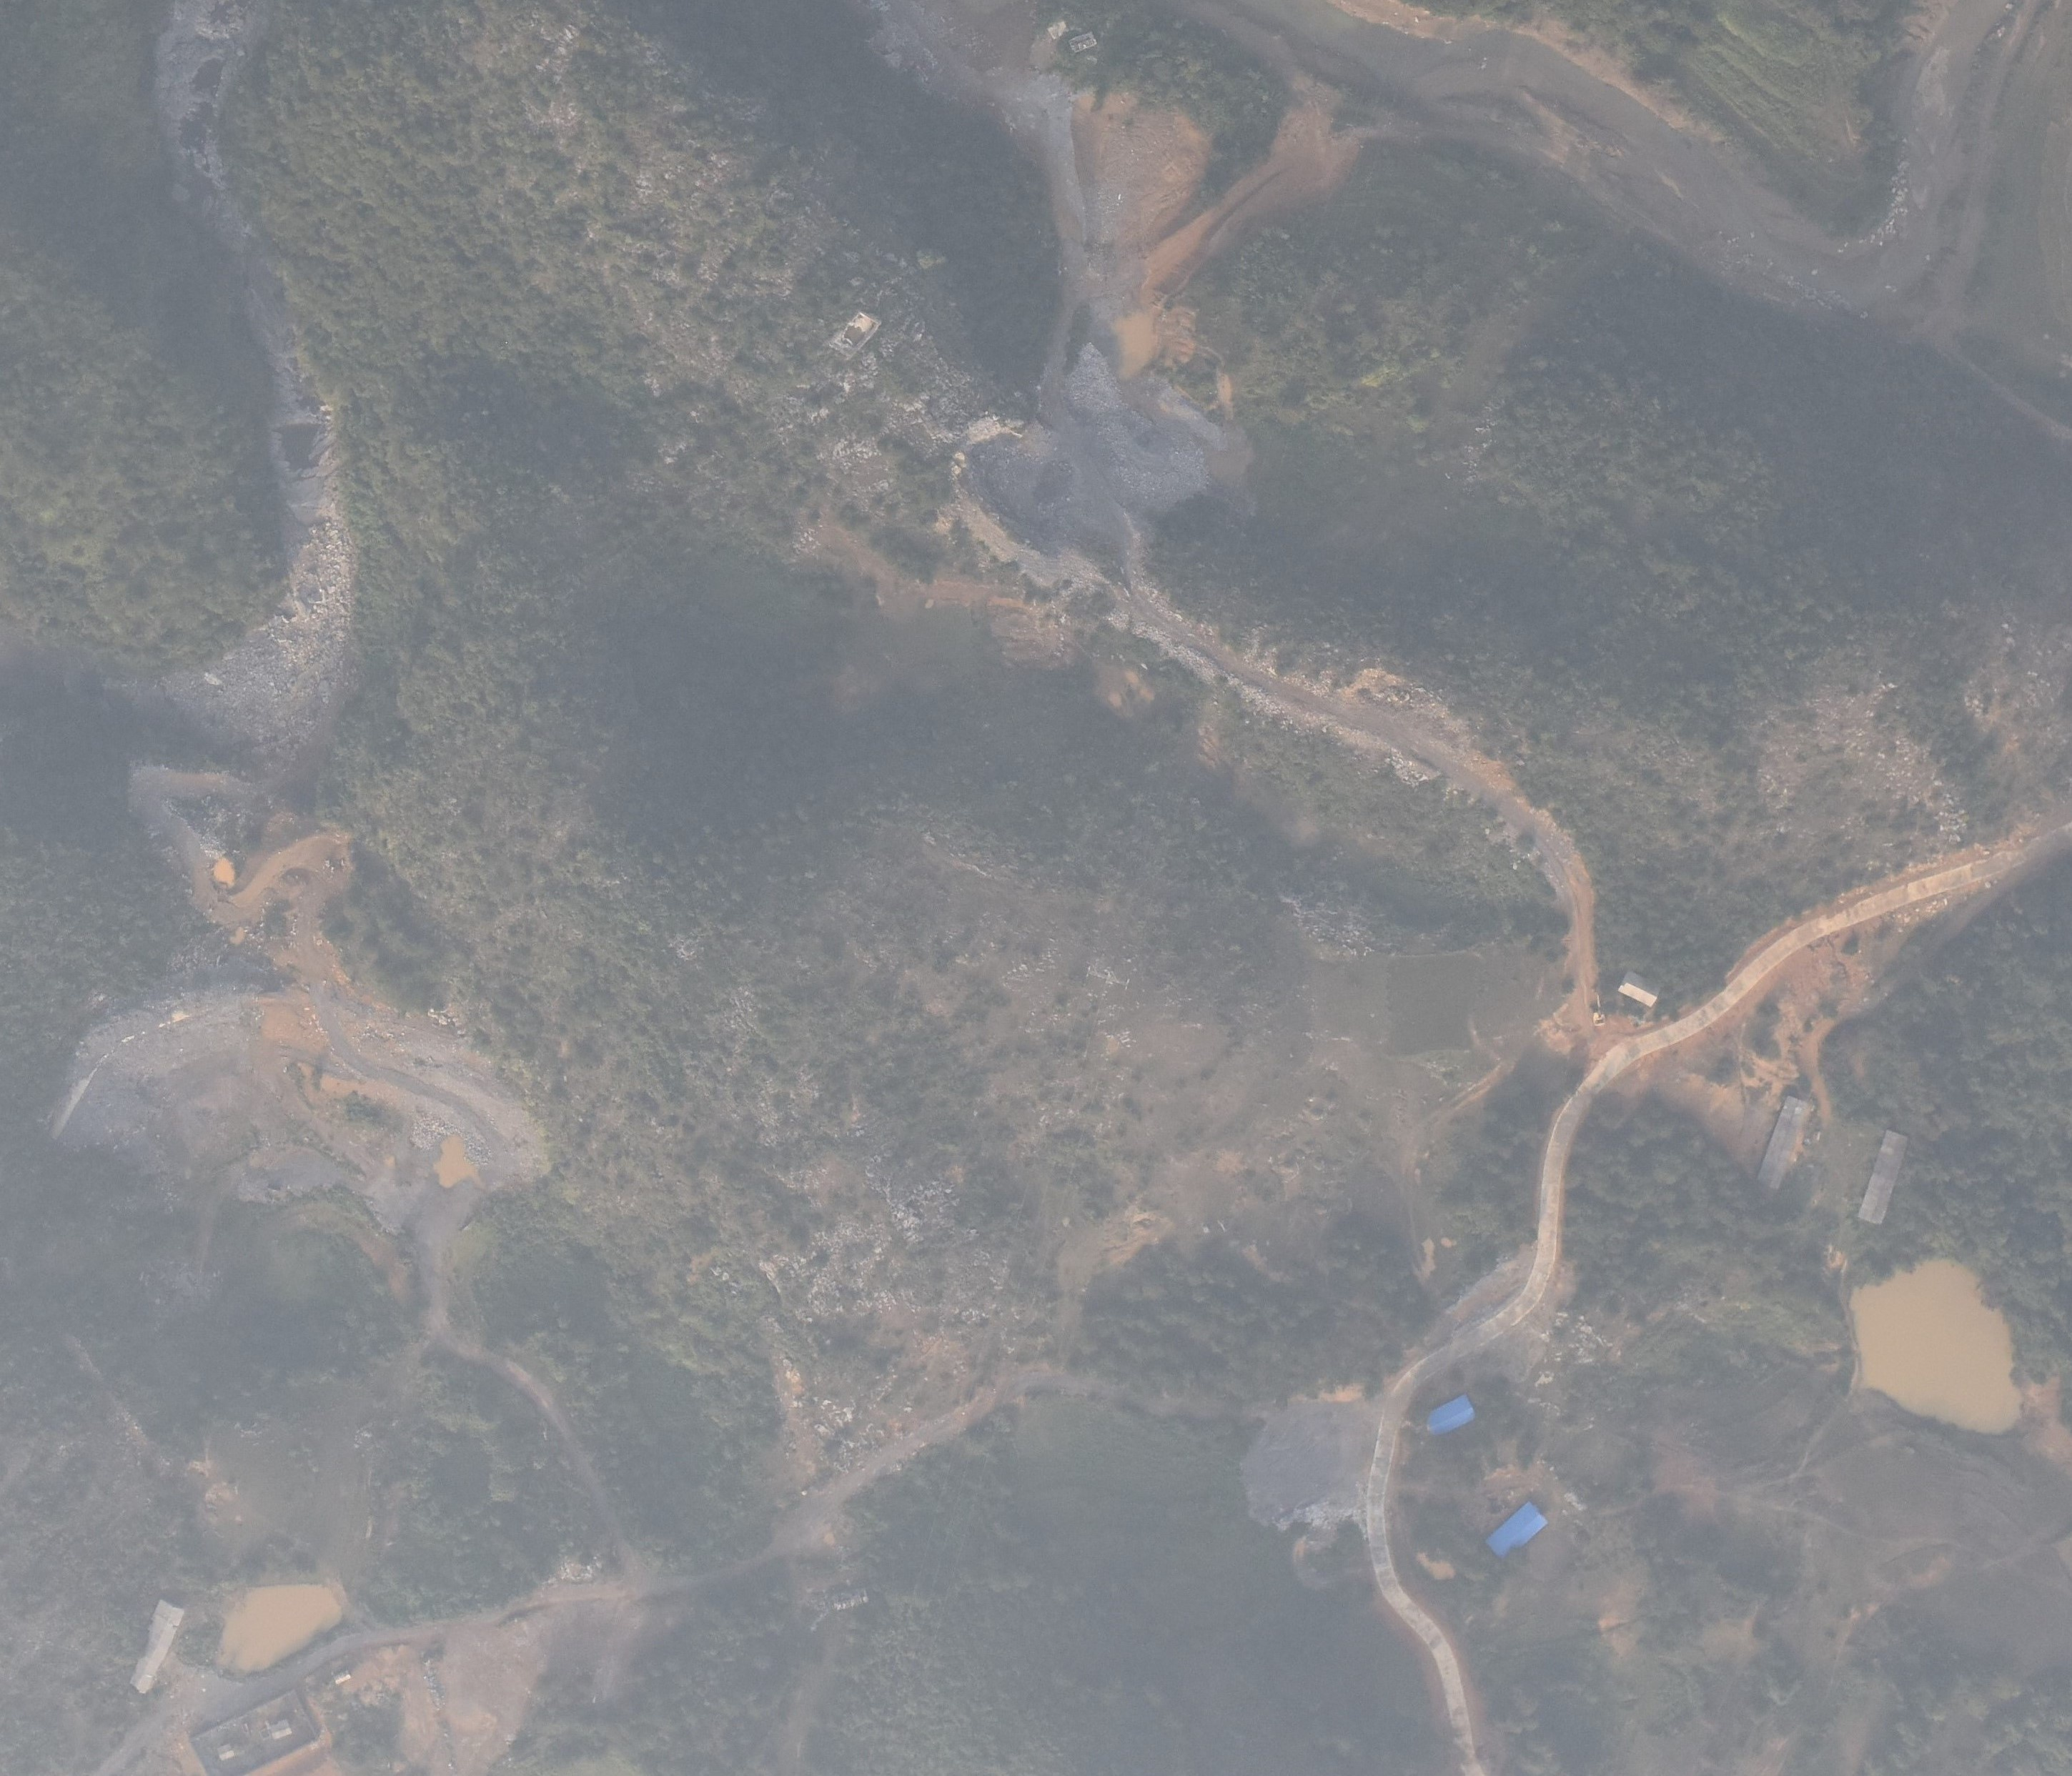building: (1852, 1117, 1913, 1235), (1753, 1085, 1811, 1200), (122, 1589, 183, 1697), (1607, 964, 1672, 1015), (208, 1737, 243, 1762), (270, 1716, 298, 1743)
cable-tower: (1080, 962, 1135, 995)
pool: (1838, 1228, 2047, 1443), (199, 1572, 372, 1688), (1101, 307, 1177, 388), (284, 1055, 382, 1114), (426, 1128, 485, 1191), (1411, 1547, 1466, 1587), (211, 855, 241, 892), (224, 925, 252, 950)
prefabricated-house: (1471, 1496, 1549, 1558), (1420, 1394, 1482, 1436)
quarry: (56, 765, 522, 1249), (946, 337, 1235, 583), (1244, 1392, 1387, 1535)
